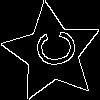C: (27, 28, 77, 71)
